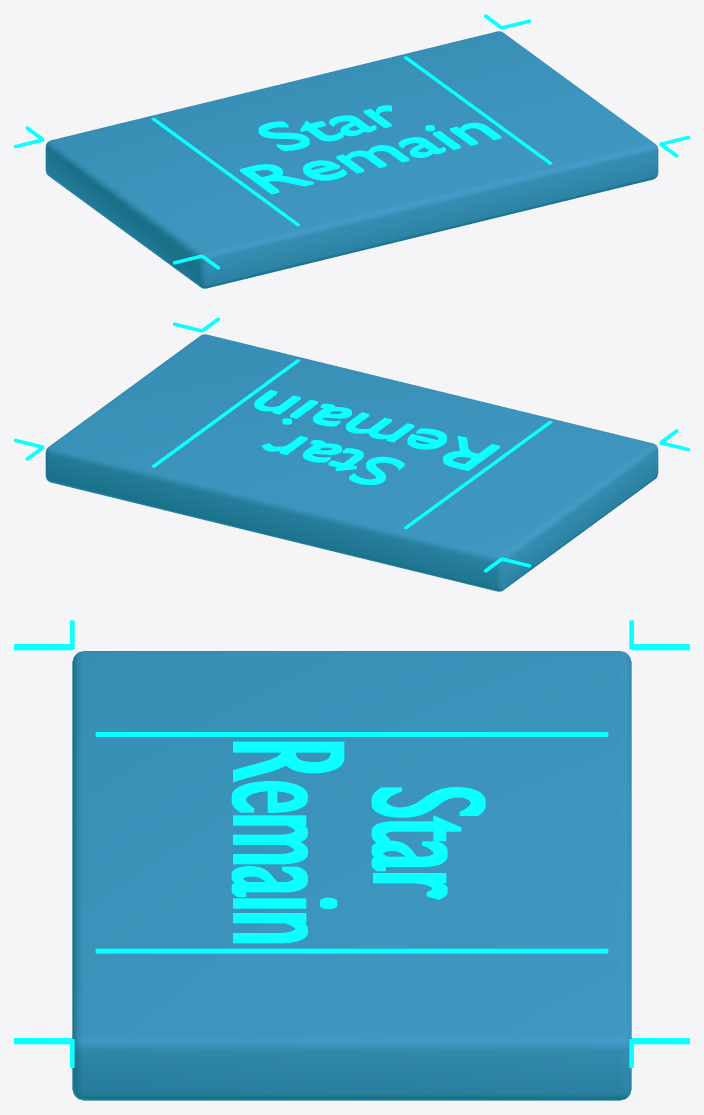
File: starremain.fbx
3 renders of one model, top to bottom at view 1: azimuth 30°, elevation 25°; view 2: azimuth 150°, elevation 25°; view 3: azimuth 270°, elevation 25°, orthographic. The views are drawn at different scales.
Parts seen in each view (by area): view 1: StarScreen, Remain_Text, Star_Text, 立方体.008, 立方体.009; view 2: StarScreen, Remain_Text, Star_Text, 立方体.008, 立方体.009; view 3: StarScreen, Remain_Text, Star_Text, 立方体.009, 立方体.008.
Boxes of the visible parts, <box> form: StarScreen: <box>45,31,658,288</box>; Remain_Text: <box>240,122,501,194</box>; Star_Text: <box>258,105,391,150</box>; 立方体.008: <box>151,117,299,226</box>; 立方体.009: <box>404,56,552,164</box>; StarScreen: <box>45,334,658,591</box>; Remain_Text: <box>254,389,499,471</box>; Star_Text: <box>262,436,404,484</box>; 立方体.008: <box>404,420,552,529</box>; 立方体.009: <box>151,359,299,467</box>; StarScreen: <box>72,651,631,1100</box>; Remain_Text: <box>231,741,344,943</box>; Star_Text: <box>371,787,485,899</box>; 立方体.009: <box>95,948,608,953</box>; 立方体.008: <box>95,732,608,736</box>.
Size of the model in its own units: 450 by 32 by 290.
